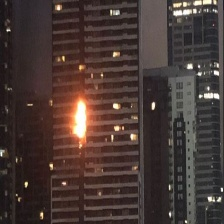fire: (70, 98, 89, 143)
